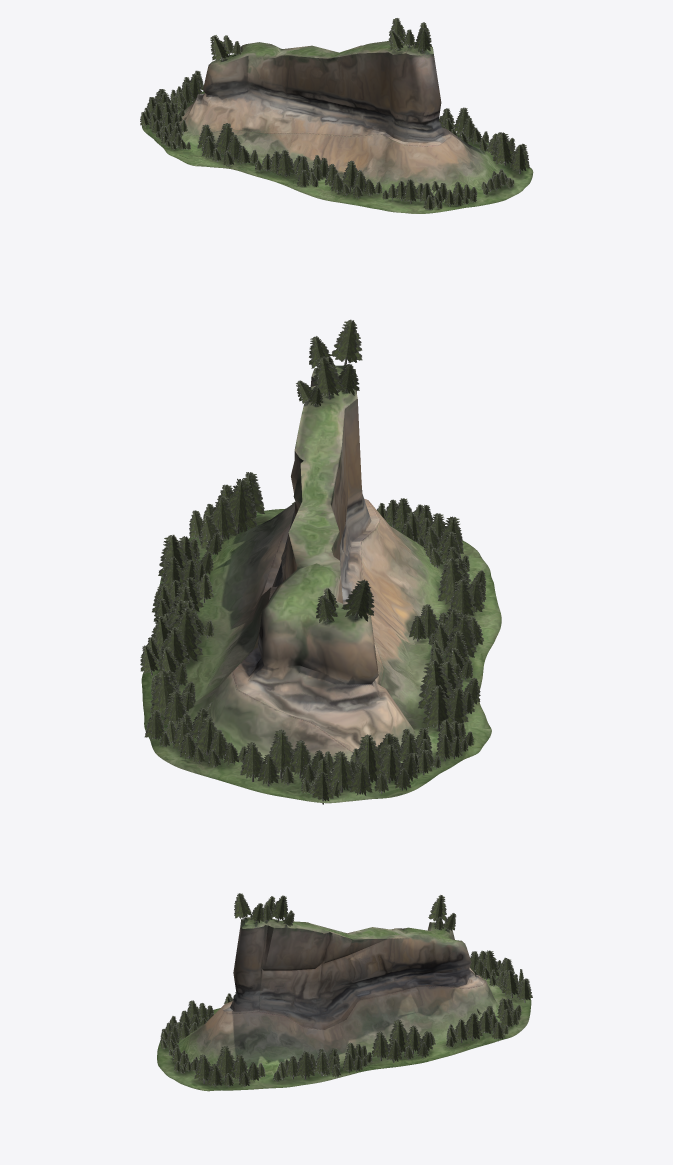
The model's file is mesa.gltf.
3 views of the same model, one above another, from view 1: azimuth 30°, elevation 25°; view 2: azimuth 150°, elevation 25°; view 3: azimuth 270°, elevation 25° (orthographic). The views are drawn at different scales.
Visible parts, largest first — view 1: Mesa, Trees; view 2: Mesa, Trees; view 3: Mesa, Trees.
Part boxes in pixels (x1,y1,x2,y2): Mesa: [142, 41, 533, 213]; Trees: [140, 18, 529, 209]; Mesa: [141, 365, 501, 803]; Trees: [140, 319, 486, 804]; Mesa: [157, 917, 531, 1091]; Trees: [160, 893, 532, 1087].
Bounding box in the file's own units: 16.1 × 5.1 × 18.51.
Materials: 2 (2 with a texture image).
